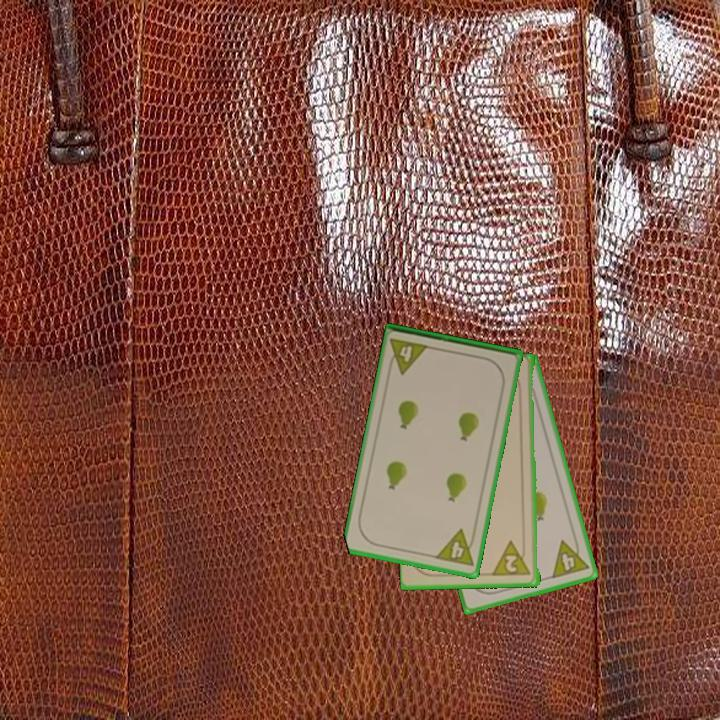2p: (491, 538, 534, 579)
4p: (548, 533, 592, 581), (432, 526, 479, 569), (385, 335, 432, 377)
